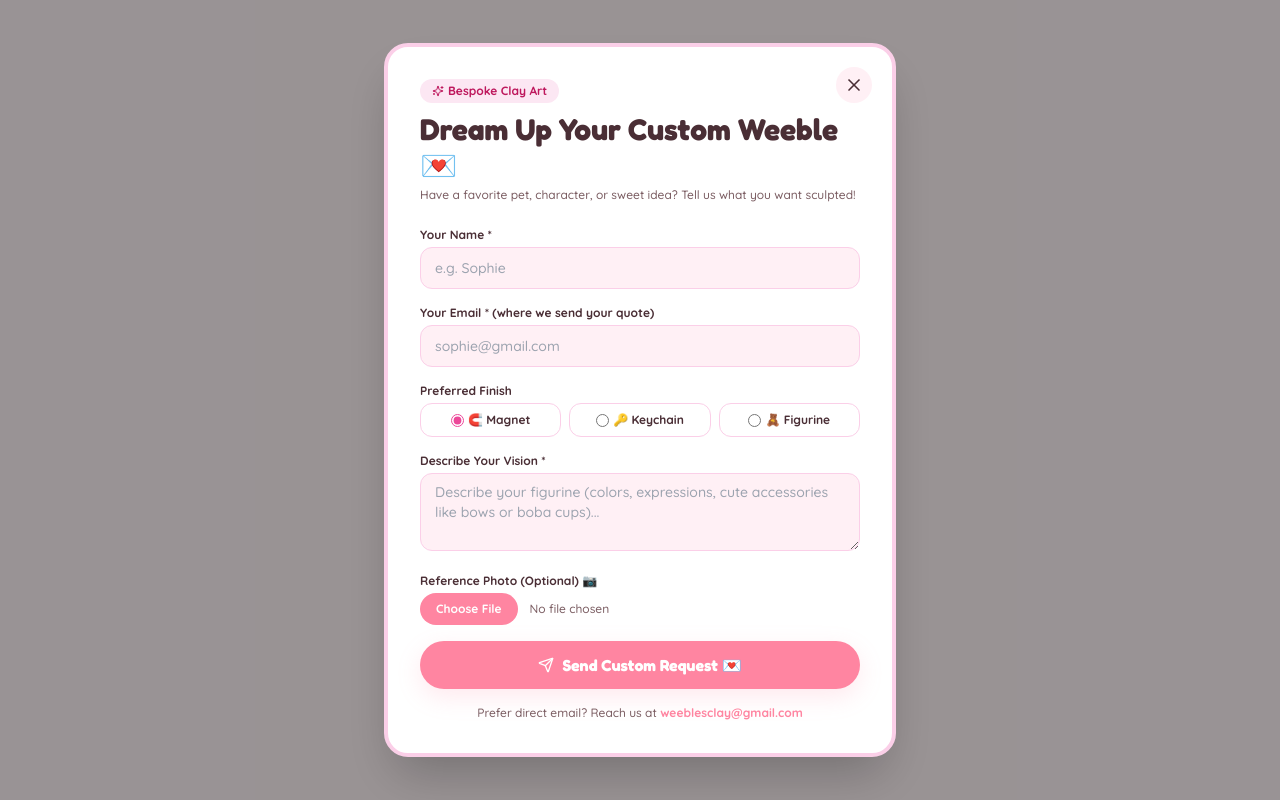
Test: CustomOrderModal › handles offline or failed network gracefully and still shows confirmation
In the field labelled "Your Name *": (640, 268) [420,247,860,289], type "Test User"
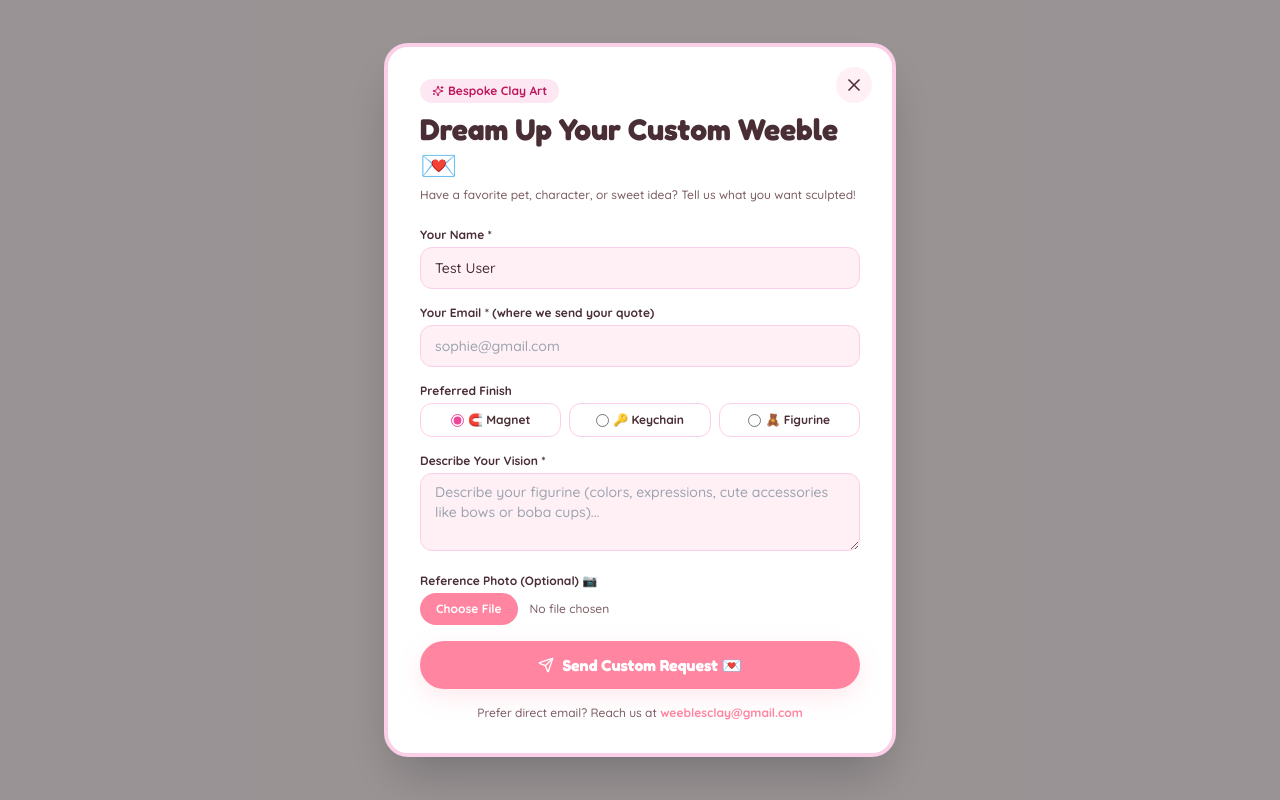
In the field labelled "Your Email * (where we send your quote)": (640, 346) [420,325,860,367], type "test@example.com"
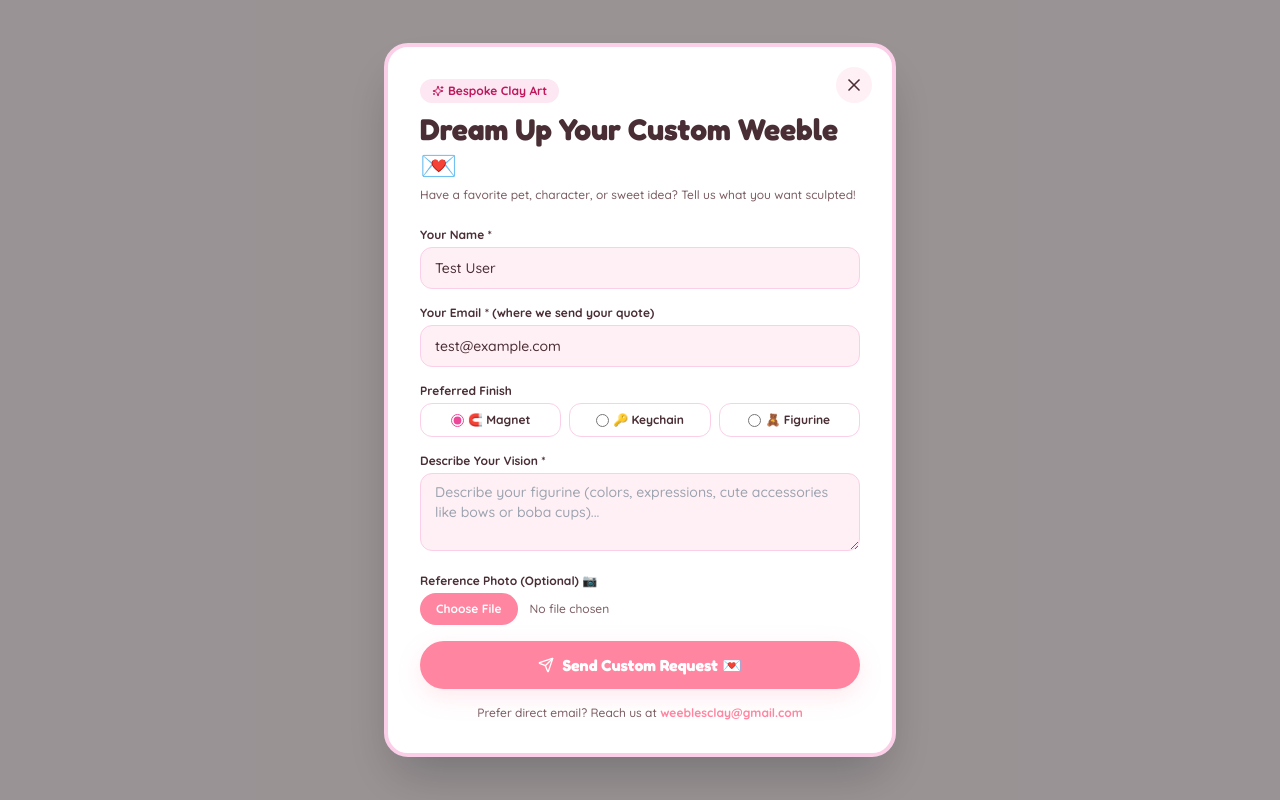
Replace the text in the text box labelled "Describe Your Vision *" with "Test vision": (640, 512) [420,473,860,551]
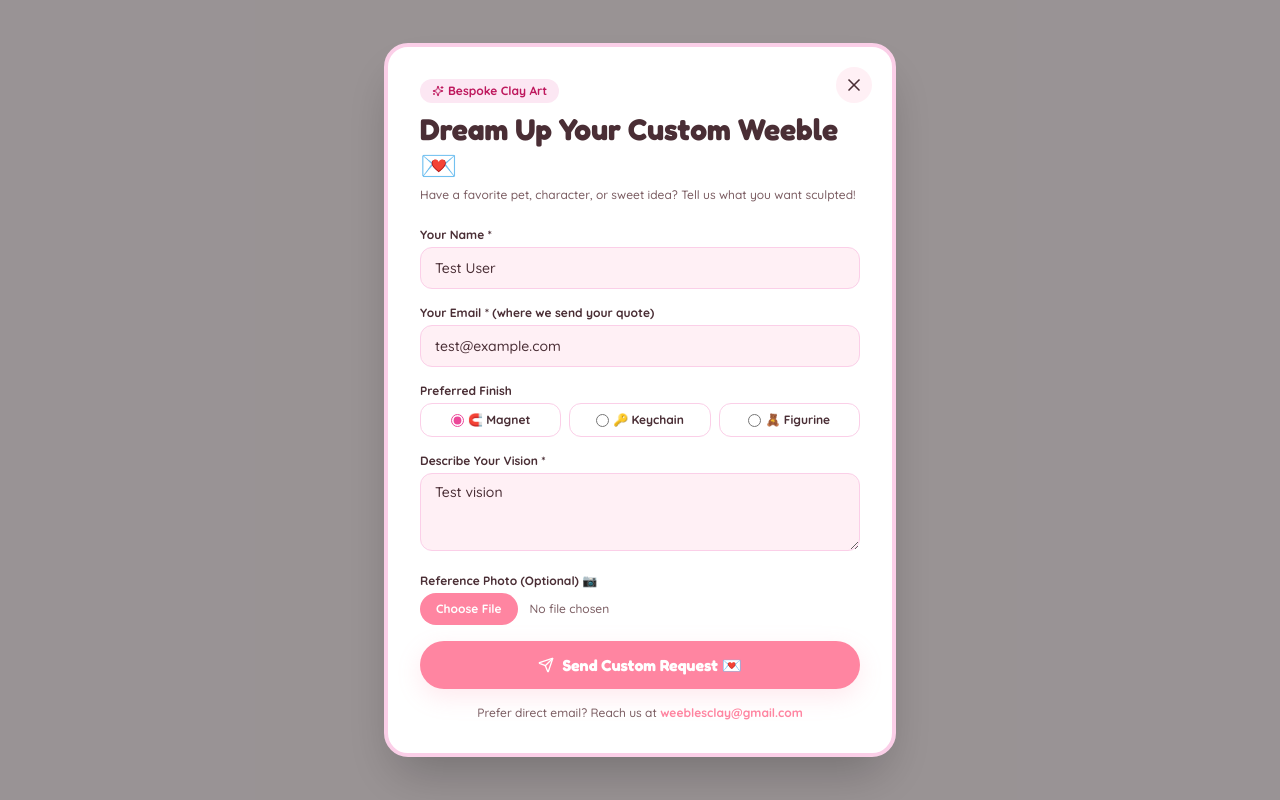
Click the button "Send Custom Request 💌": (640, 665) [420,641,860,689]
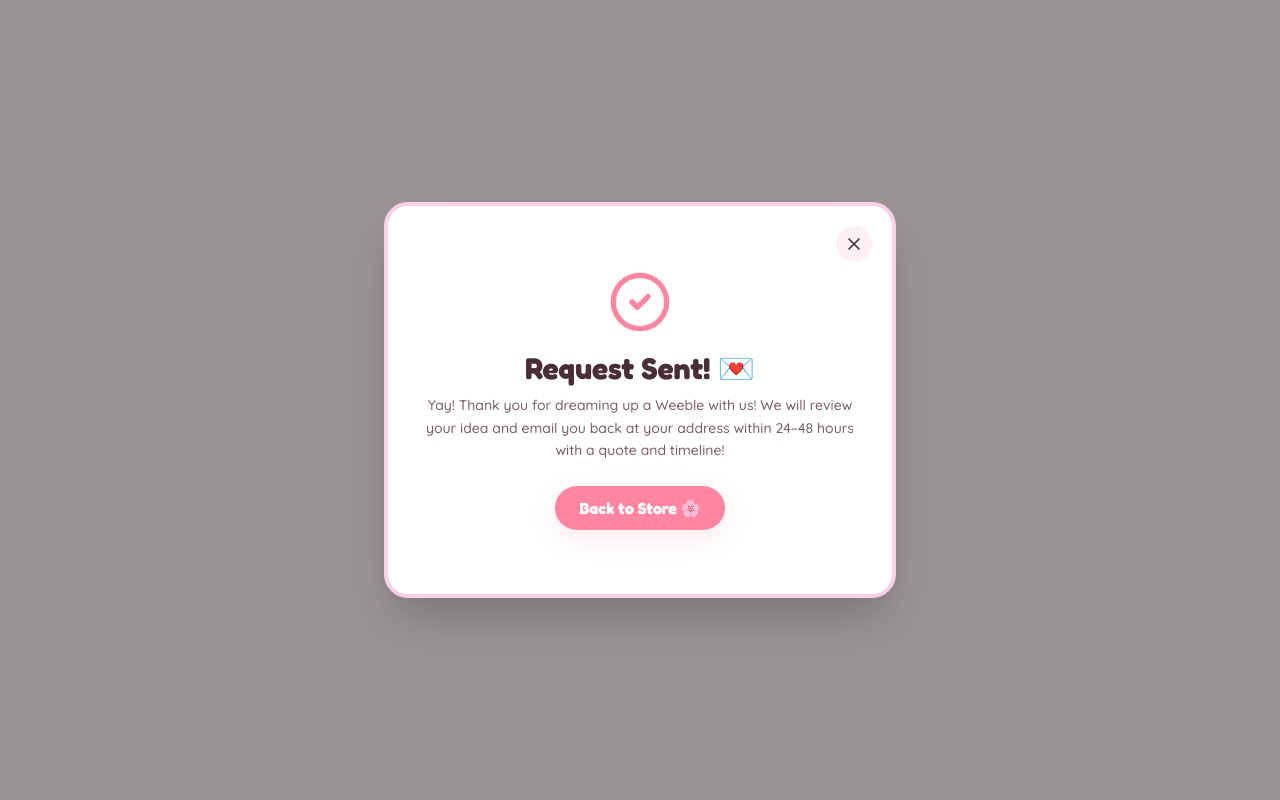
Expected: the heading "Request Sent! 💌" is shown, [525,350,755,386]
